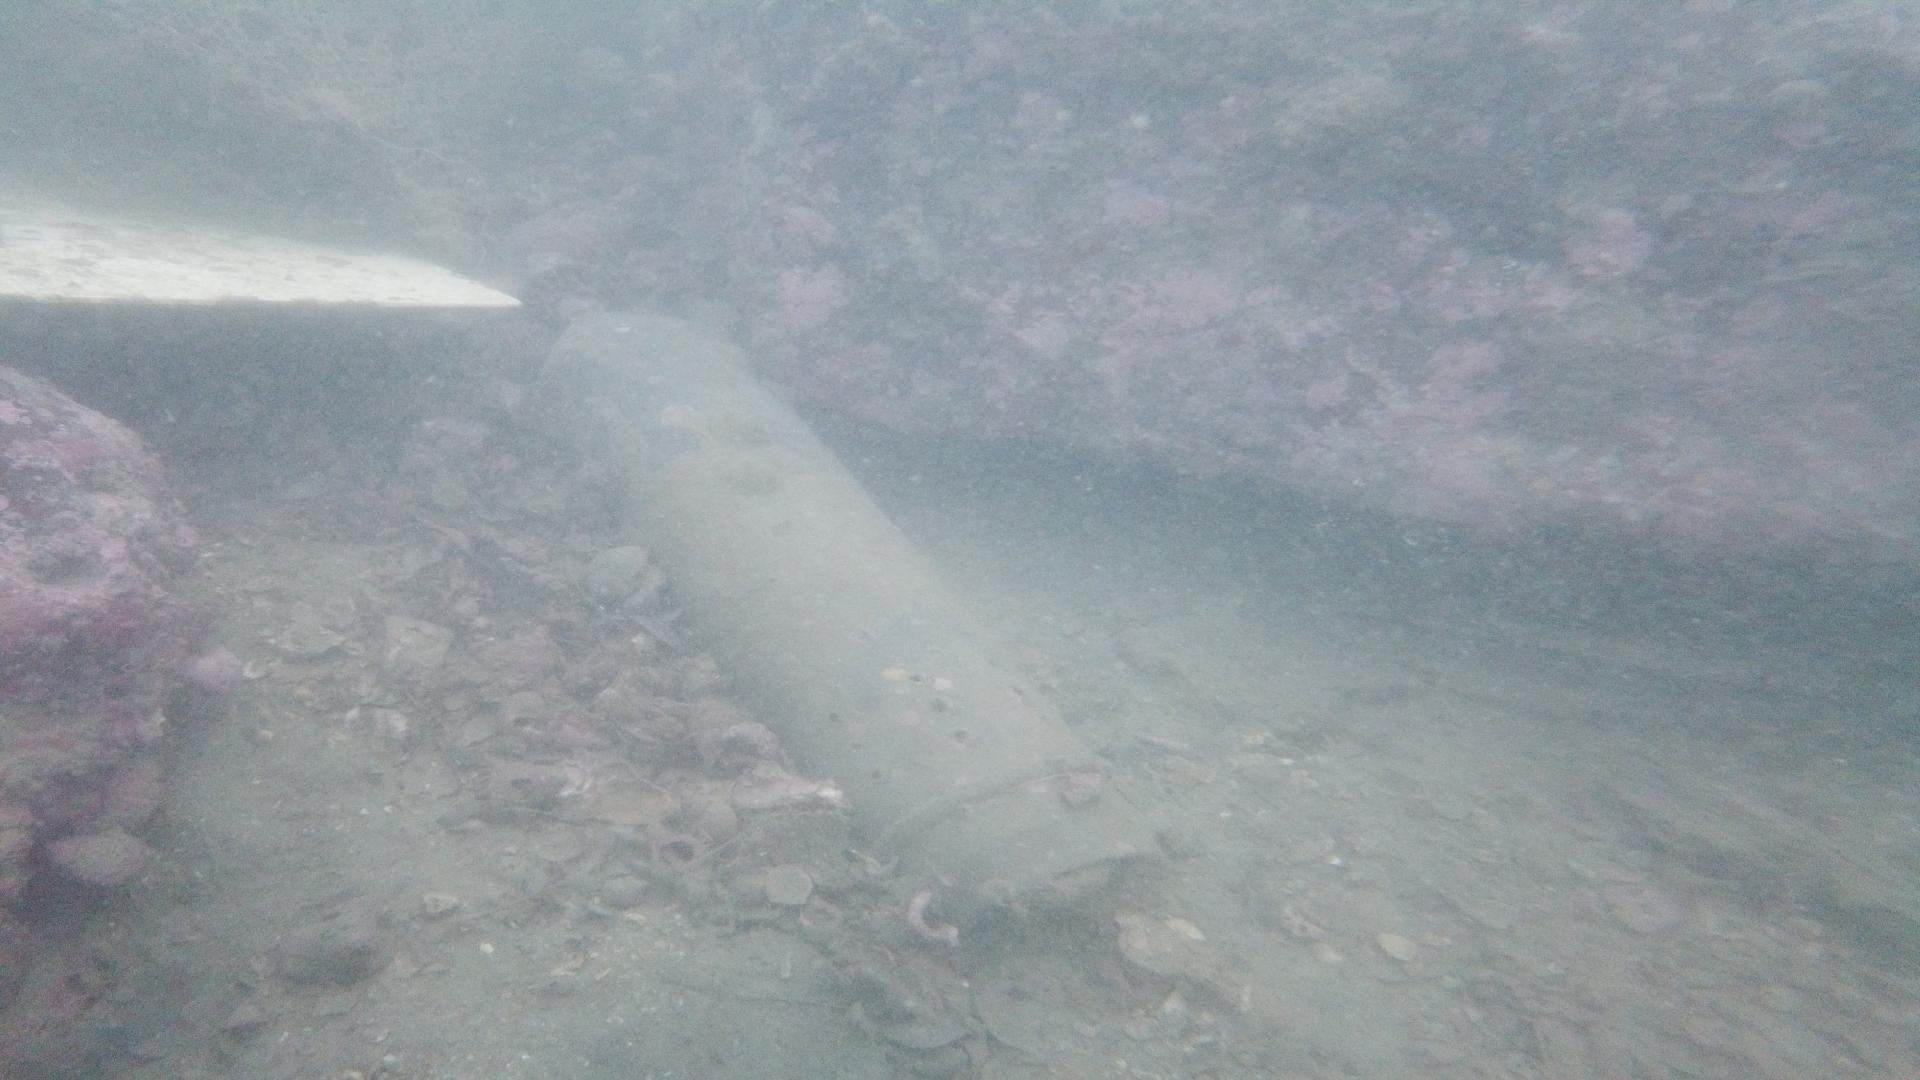eel fish trap: (498, 248, 1170, 935)
